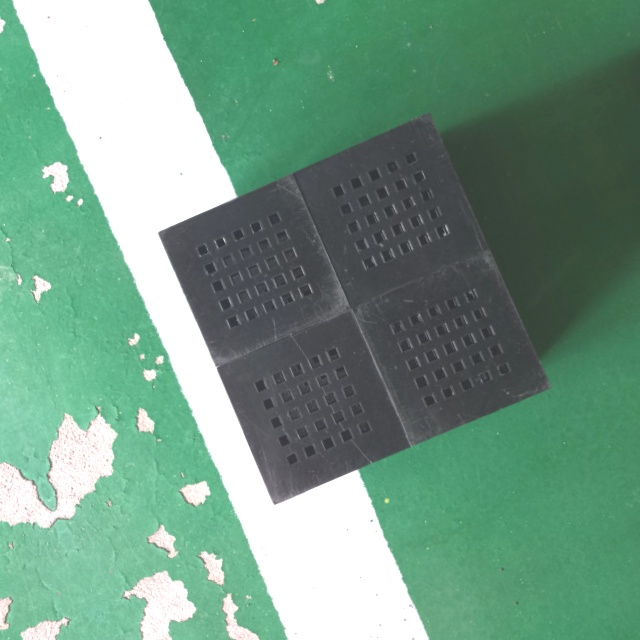pallet: (157, 100, 551, 523)
